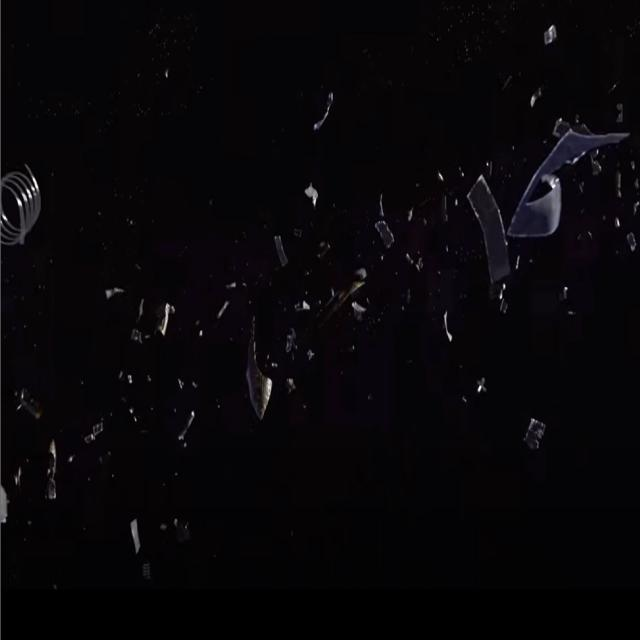large_debris: (501, 110, 636, 261), (464, 176, 512, 284), (241, 303, 271, 432), (0, 159, 42, 245), (335, 263, 371, 322), (368, 191, 396, 255), (516, 414, 549, 456), (309, 87, 336, 137), (171, 401, 199, 448), (534, 17, 562, 54), (513, 80, 543, 108), (271, 228, 289, 274), (612, 167, 624, 235), (45, 436, 56, 505), (127, 513, 143, 559), (159, 300, 177, 340), (84, 418, 107, 449), (437, 312, 454, 350), (299, 184, 321, 213), (0, 476, 11, 529), (102, 284, 126, 308), (472, 371, 490, 402), (590, 142, 606, 176), (613, 99, 628, 129), (292, 294, 311, 316), (214, 295, 230, 320), (282, 327, 294, 358), (282, 374, 299, 395), (11, 468, 27, 489), (624, 228, 636, 251), (128, 324, 140, 345), (137, 295, 147, 315), (177, 376, 185, 395), (126, 370, 134, 389), (222, 279, 238, 288), (195, 326, 203, 343), (306, 346, 316, 356)
